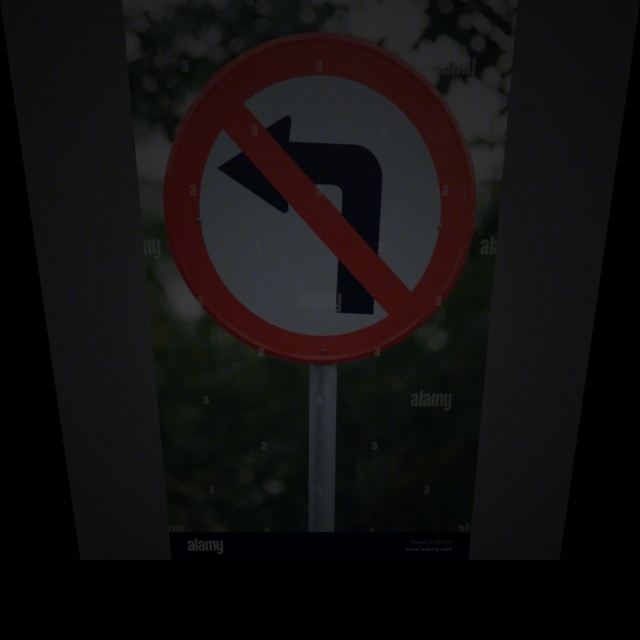Left_Turn_Prohibited: (148, 34, 491, 361)
